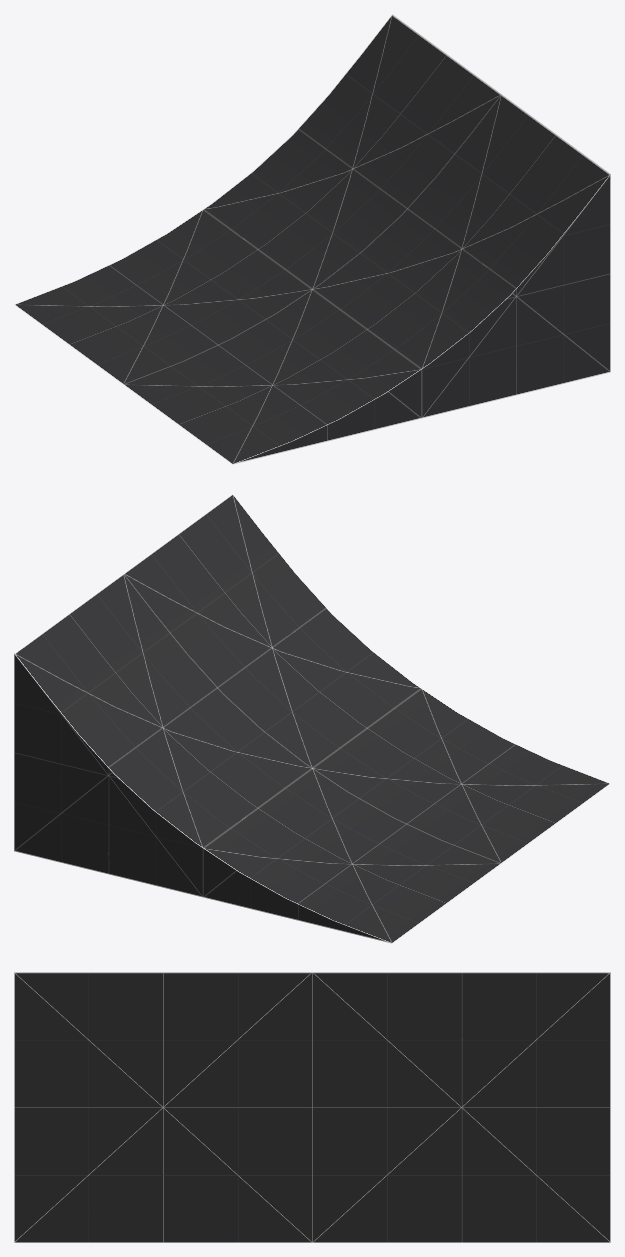
The model's file is ramp.glb.
3 views of the same model, one above another, from view 1: azimuth 30°, elevation 25°; view 2: azimuth 150°, elevation 25°; view 3: azimuth 270°, elevation 25° (orthographic). The views are drawn at different scales.
Parts seen in each view (by area): view 1: Ramp; view 2: Ramp; view 3: Ramp.
Boxes of the visible parts, x1,y1,x2,y2 form: Ramp: (14, 14, 610, 464); Ramp: (14, 493, 610, 943); Ramp: (14, 972, 610, 1242).
Bounding box in the file's own units: 10 × 5 × 10.
1 material, 1 textured.
